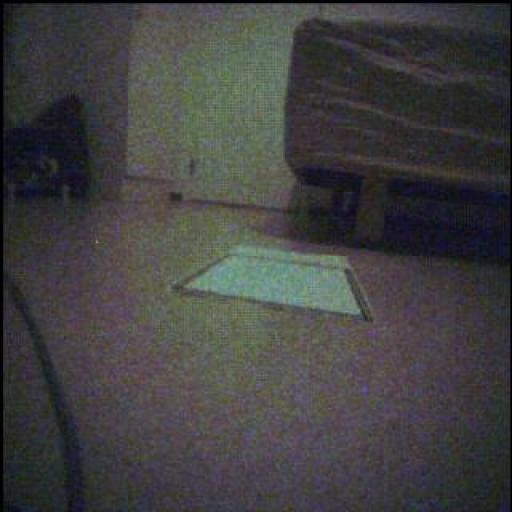pad: (177, 246, 374, 321)
